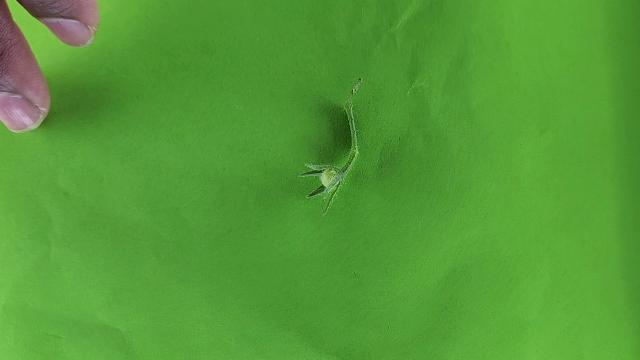Fruit Bud: (302, 165, 346, 213), (300, 166, 338, 181)
